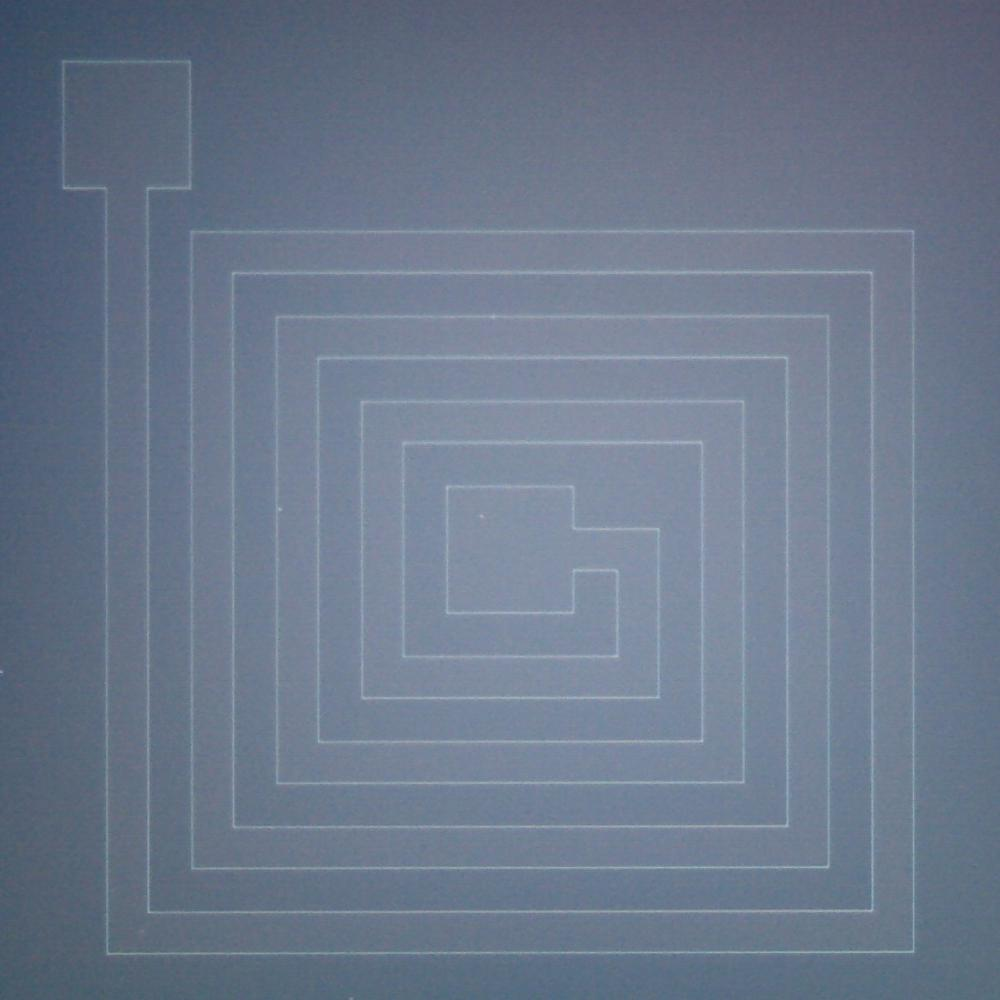dot: (278, 508, 283, 512), (480, 514, 484, 518), (0, 670, 4, 674)
